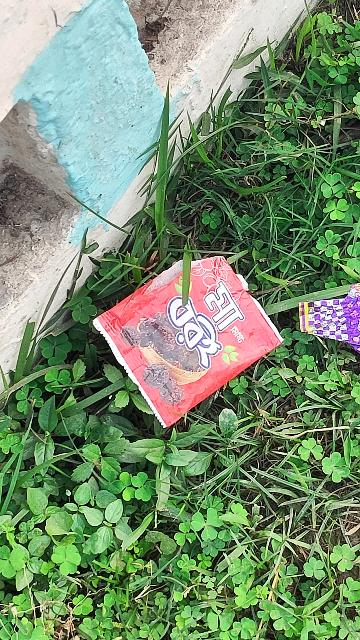packet: (85, 262, 280, 431)
